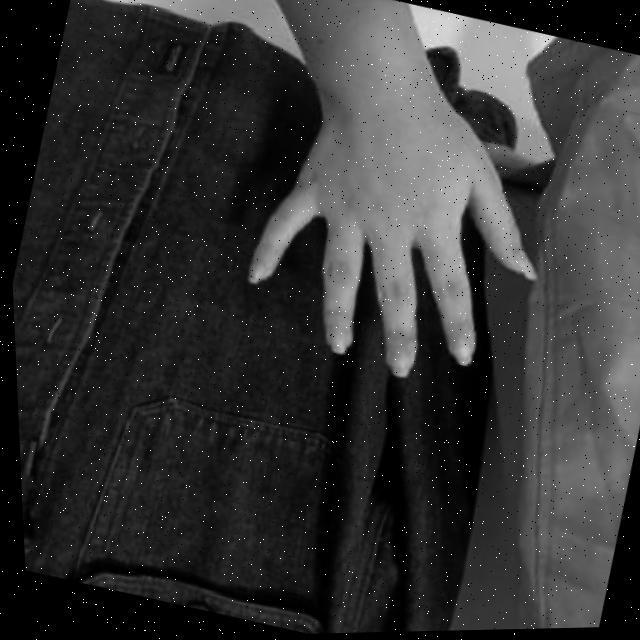no-gloves: (218, 87, 570, 414)
